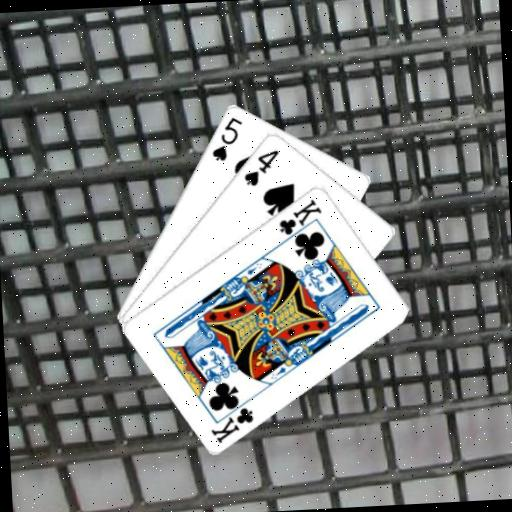4S: (240, 146, 283, 188)
5S: (207, 113, 246, 163)
KC: (207, 394, 257, 445), (275, 195, 325, 245)
